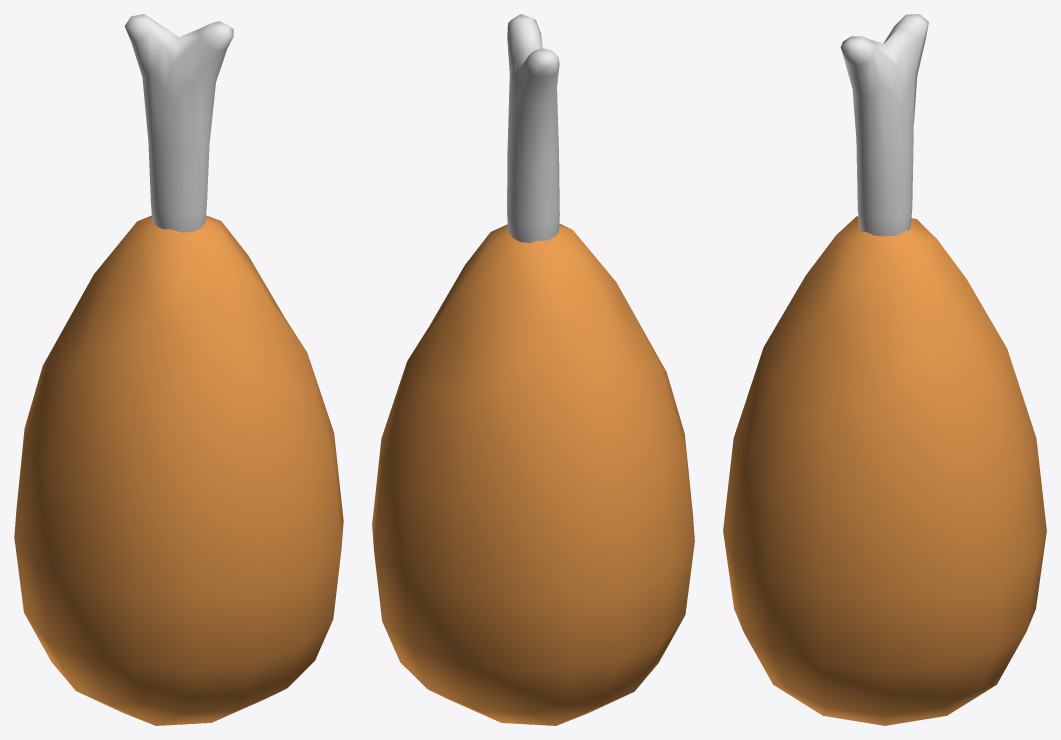
The model's file is KURA.fbx.
3 views of the same model, side by side, from view 1: azimuth 30°, elevation 25°; view 2: azimuth 150°, elevation 25°; view 3: azimuth 270°, elevation 25° (orthographic). The views are drawn at different scales.
Visible parts, largest first — view 1: Cube, Cube.001; view 2: Cube, Cube.001; view 3: Cube, Cube.001.
Part boxes in pixels (left/top/right/bottom): Cube: left=14, top=215, right=343, bottom=725; Cube.001: left=124, top=14, right=233, bottom=232; Cube: left=372, top=223, right=694, bottom=725; Cube.001: left=507, top=14, right=559, bottom=242; Cube: left=723, top=216, right=1046, bottom=725; Cube.001: left=840, top=14, right=928, bottom=236.
Bounding box in the file's own units: 140 × 325 × 140.
